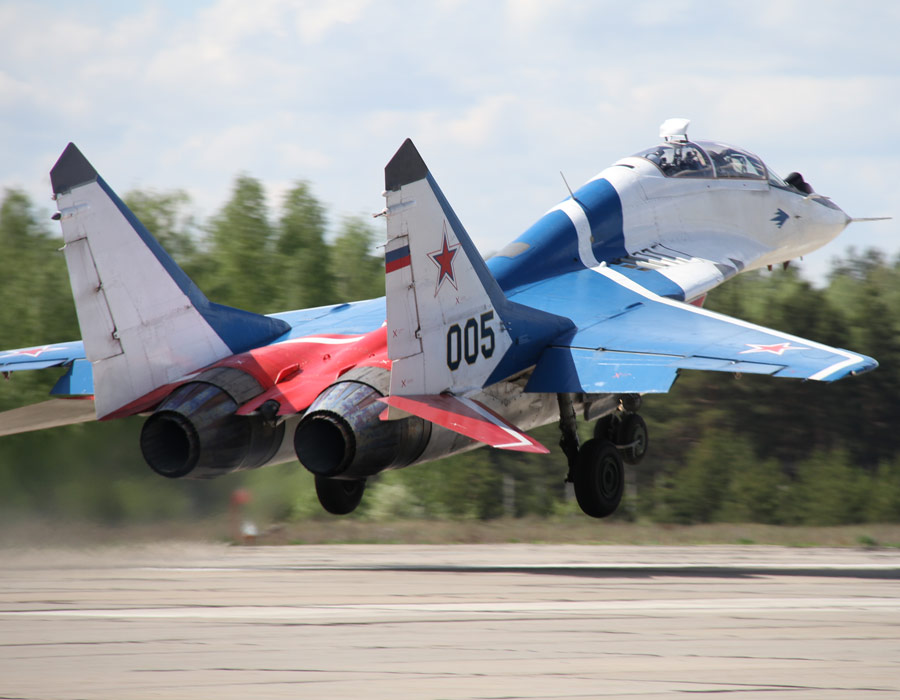Mig-29: (22, 74, 861, 500)
